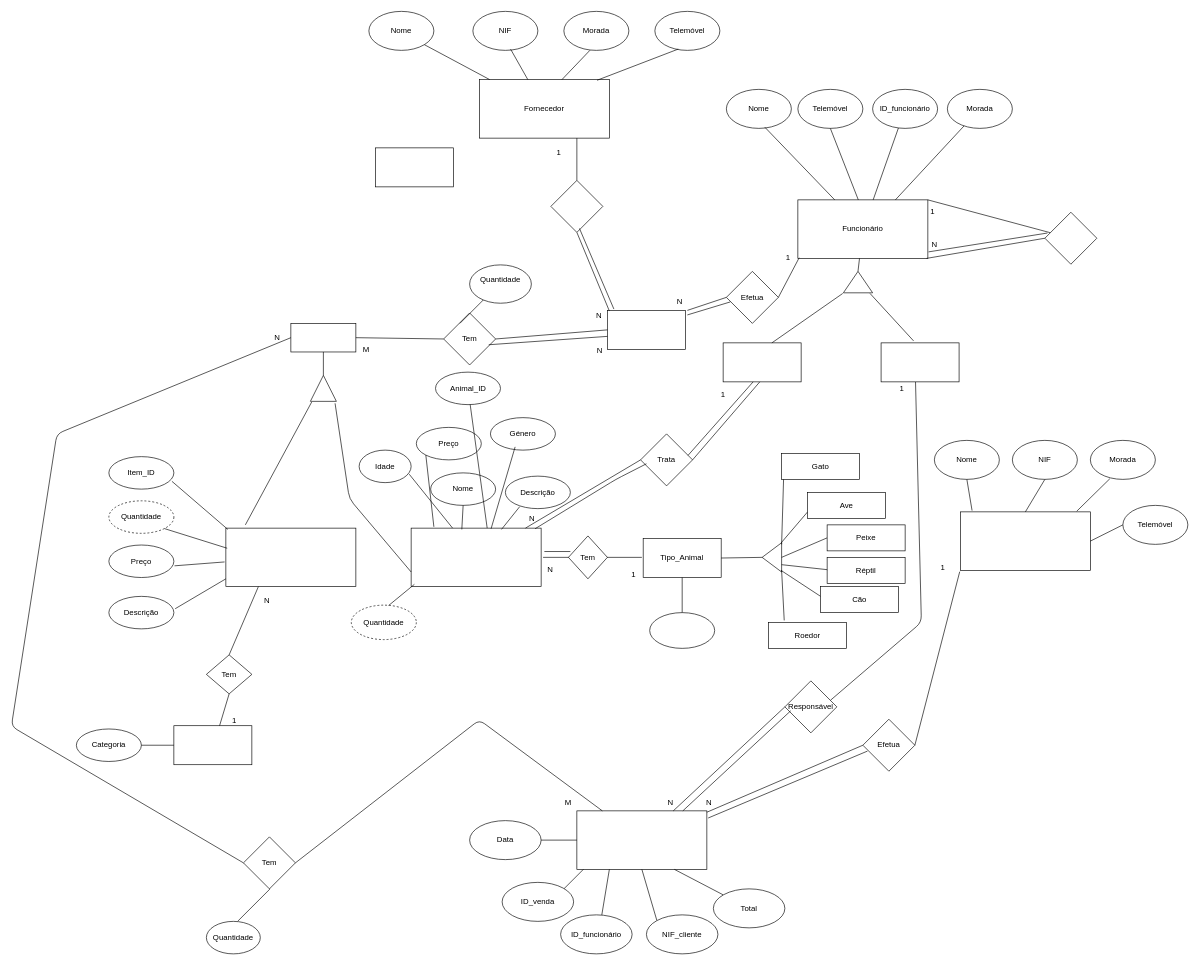
Some shapes in this 1199 by 965 pixel diagram are drawn without their labels. The shapes that lost their labels are listed below. From the top down, each one's centre as x and y in pixels, then its label:
At (414,167): "Pedido_Animais".
At (576,206): "Fornece".
At (1070,238): "Supervisiona".
At (323,337): "Item".
At (646,329): "Encomenda".
At (761,362): "Tratador".
At (919,362): "Vendedor".
At (290,557): "Produto".
At (475,557): "Animal".
At (1025,540): "Cliente".
At (682,630): "Espécie".
At (212,745): "Tipo_Produto".
At (641,839): "Compra".
